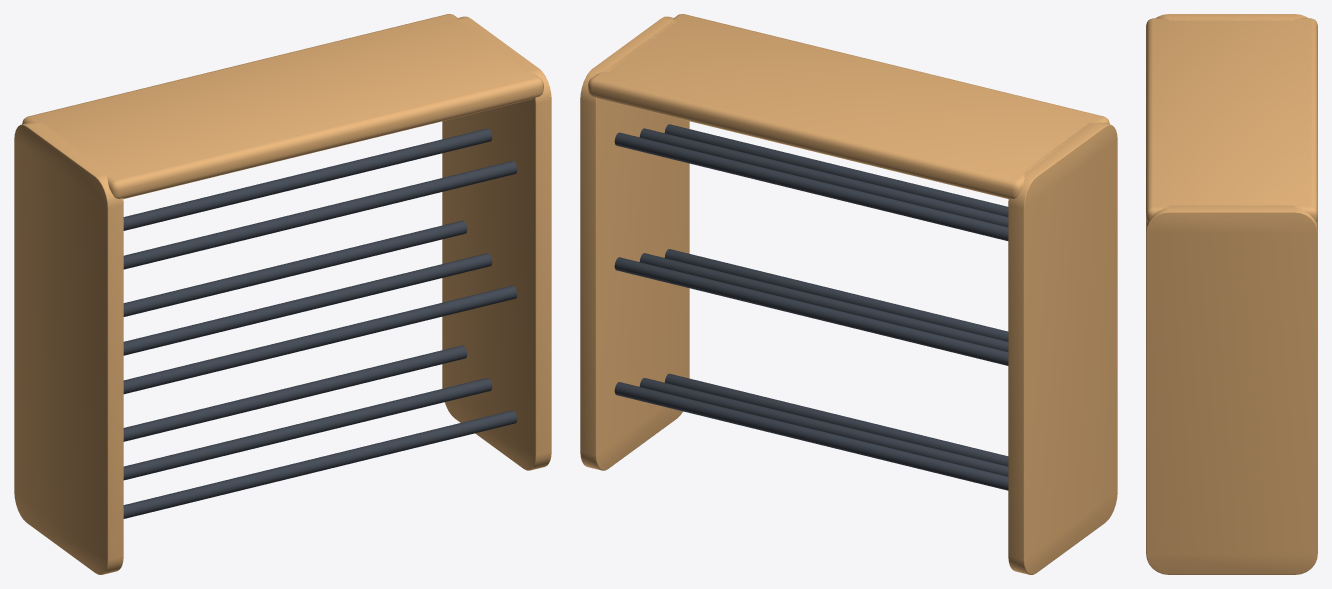
The model's file is sapateira_aberta_tubos.glb.
3 views of the same model, side by side, from view 1: azimuth 30°, elevation 25°; view 2: azimuth 150°, elevation 25°; view 3: azimuth 270°, elevation 25° (orthographic). The views are drawn at different scales.
Visible parts, largest first — view 1: sapateira_aberta_tubos; view 2: sapateira_aberta_tubos; view 3: sapateira_aberta_tubos.
Part boxes in pixels (bbox=[...]): sapateira_aberta_tubos: bbox=[14, 14, 551, 574]; sapateira_aberta_tubos: bbox=[580, 14, 1117, 574]; sapateira_aberta_tubos: bbox=[1146, 14, 1317, 574].
Bounding box in the file's own units: 0.82 × 0.7 × 0.3.
1 material, 1 textured.
